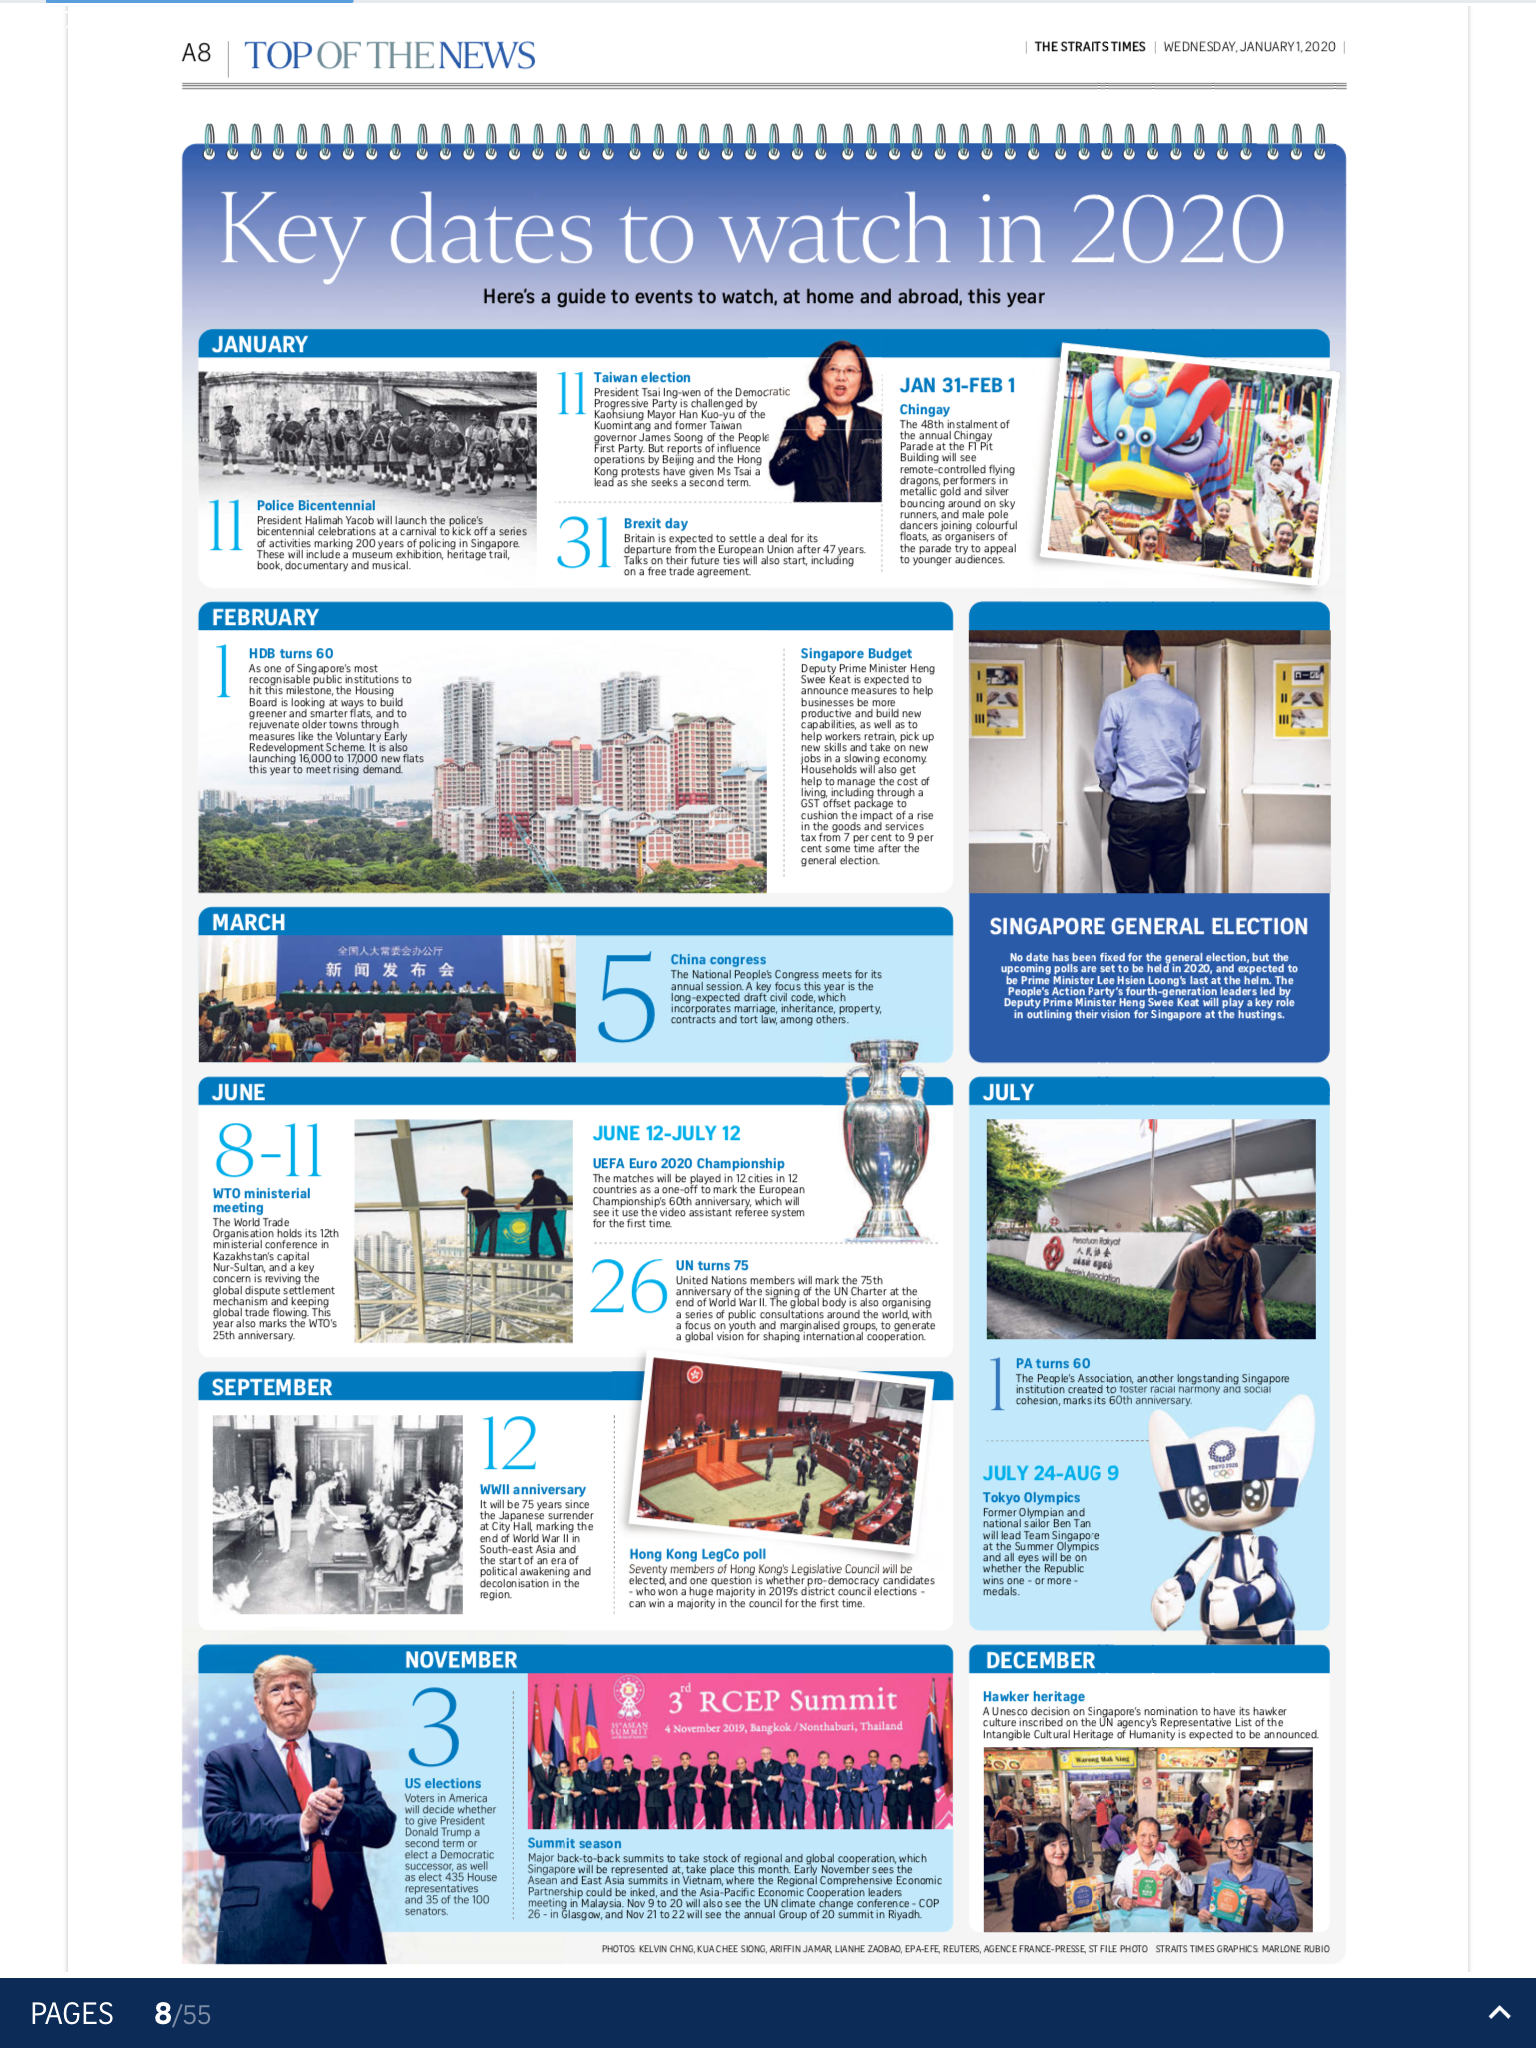Byline: (595, 1938, 1333, 1961)
Headline: (207, 174, 1296, 285)
Image: (202, 631, 766, 892), (970, 629, 1333, 893), (1036, 337, 1336, 593), (984, 1118, 1321, 1342), (177, 1643, 405, 1966), (526, 1671, 954, 1830), (626, 1355, 936, 1563), (984, 1748, 1317, 1929), (210, 1413, 465, 1617), (1125, 1392, 1329, 1646), (200, 366, 539, 513), (200, 934, 576, 1064), (353, 1122, 573, 1343), (829, 1030, 934, 1247), (768, 340, 887, 505)
Text: (983, 908, 1315, 1032), (520, 1837, 950, 1927), (587, 1250, 950, 1350), (594, 940, 892, 1059), (795, 640, 939, 874), (549, 360, 792, 493), (207, 1116, 344, 1348), (211, 637, 428, 780), (207, 492, 528, 581), (892, 366, 1025, 577), (586, 1114, 812, 1235), (402, 1682, 505, 1930), (478, 1408, 600, 1609), (553, 506, 868, 584), (623, 1543, 941, 1613), (978, 1458, 1128, 1601), (987, 1351, 1296, 1416), (979, 1685, 1320, 1742), (481, 279, 1052, 311)
